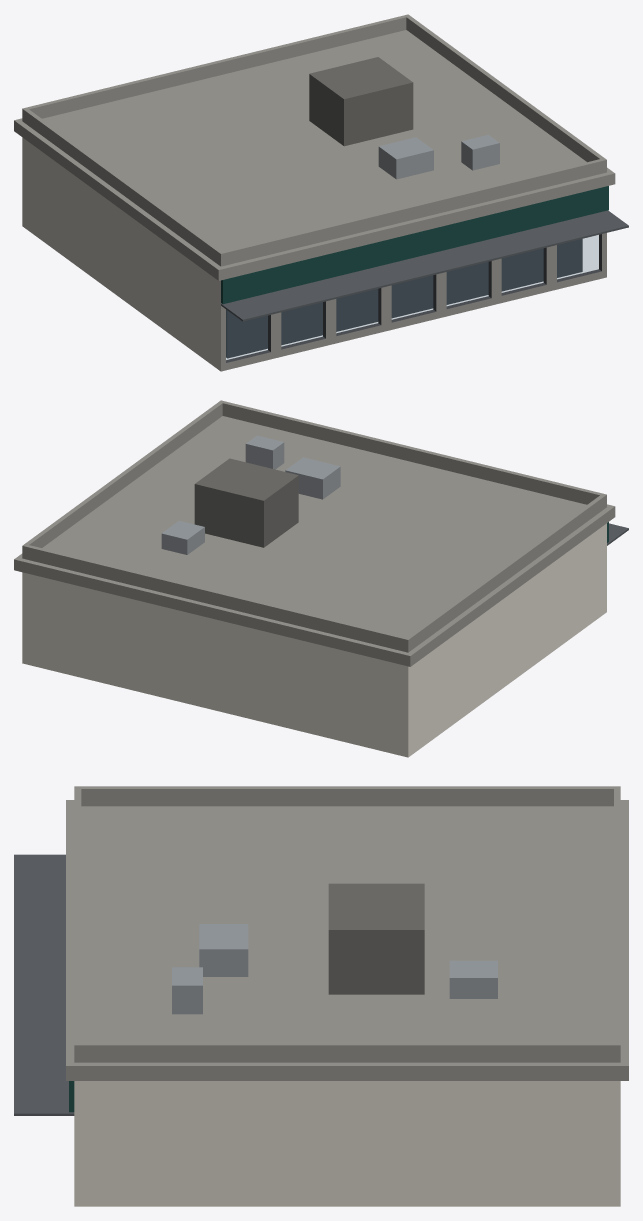
File: retail-3.glb
3 views of the same model, one above another, from view 1: azimuth 30°, elevation 25°; view 2: azimuth 150°, elevation 25°; view 3: azimuth 270°, elevation 25° (orthographic). The views are drawn at different scales.
Visible parts, largest first — view 1: retail-3; view 2: retail-3; view 3: retail-3.
Part boxes in pixels (x1=…): retail-3: x1=14, y1=14, x2=628, y2=371; retail-3: x1=14, y1=400, x2=628, y2=757; retail-3: x1=14, y1=786, x2=628, y2=1206.
Bounding box in the file's own units: 22.94 × 8.4 × 22.41.
